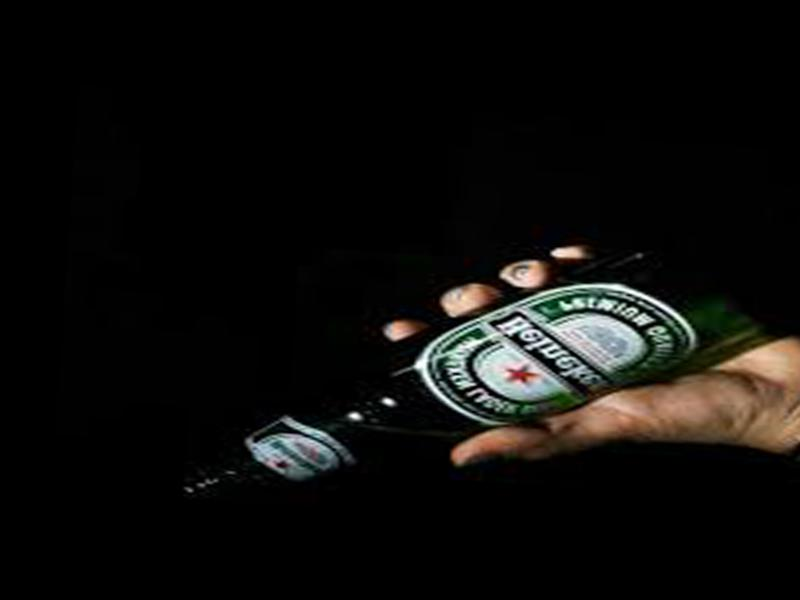Beer: (158, 210, 795, 543)
